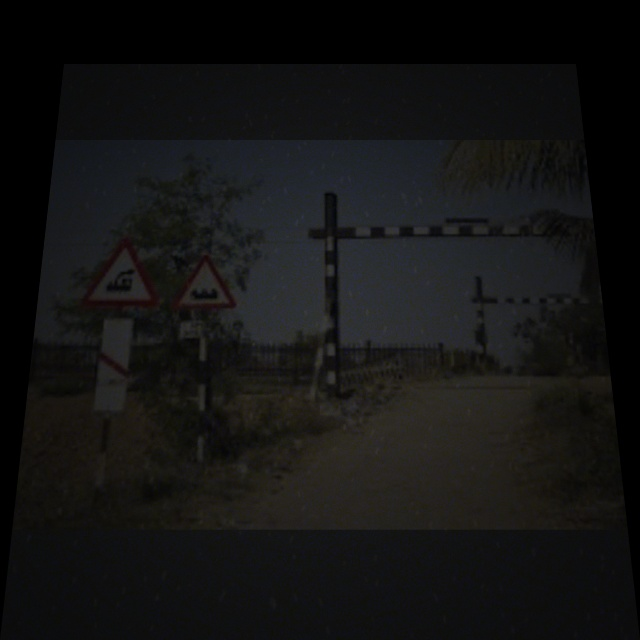Unguarded_Level_Crossing: (82, 234, 160, 315)
